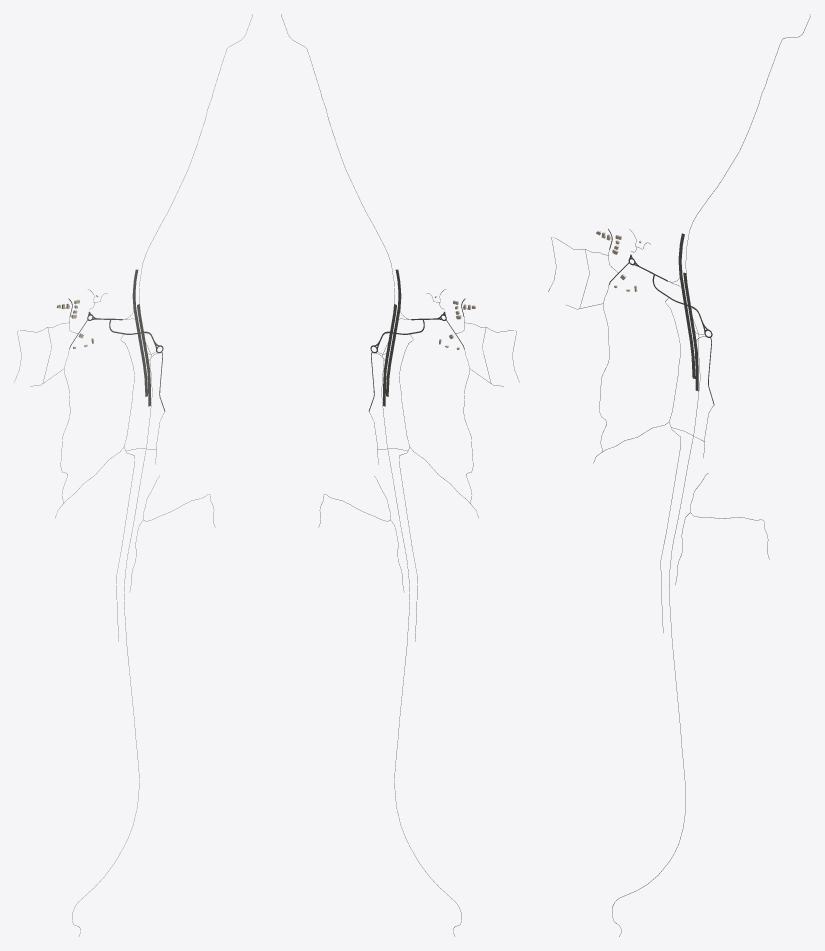
Rendered from historic-palestine-08_23_3501_3179.glb.
The picture shows the model from 3 angles, left to right: view 1: azimuth 30°, elevation 25°; view 2: azimuth 150°, elevation 25°; view 3: azimuth 330°, elevation 25°; orthographic projection. The views are drawn at different scales.
Visible parts, largest first — view 1: Road .028; view 2: Road .028; view 3: Road .028.
Part boxes in pixels (x1,y1,x2,y2): Road .028: (72,14,252,936); Road .028: (281,14,461,936); Road .028: (612,14,810,936).
Bounding box in the file's own units: 1027 × 3621 × 8.7.
